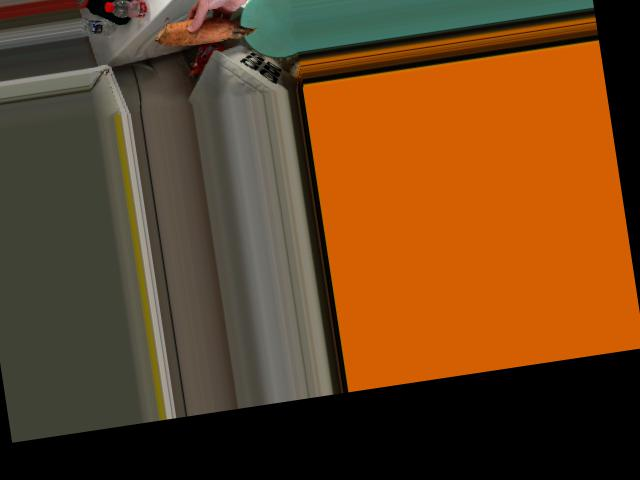sweet_potato: (159, 4, 257, 51)
